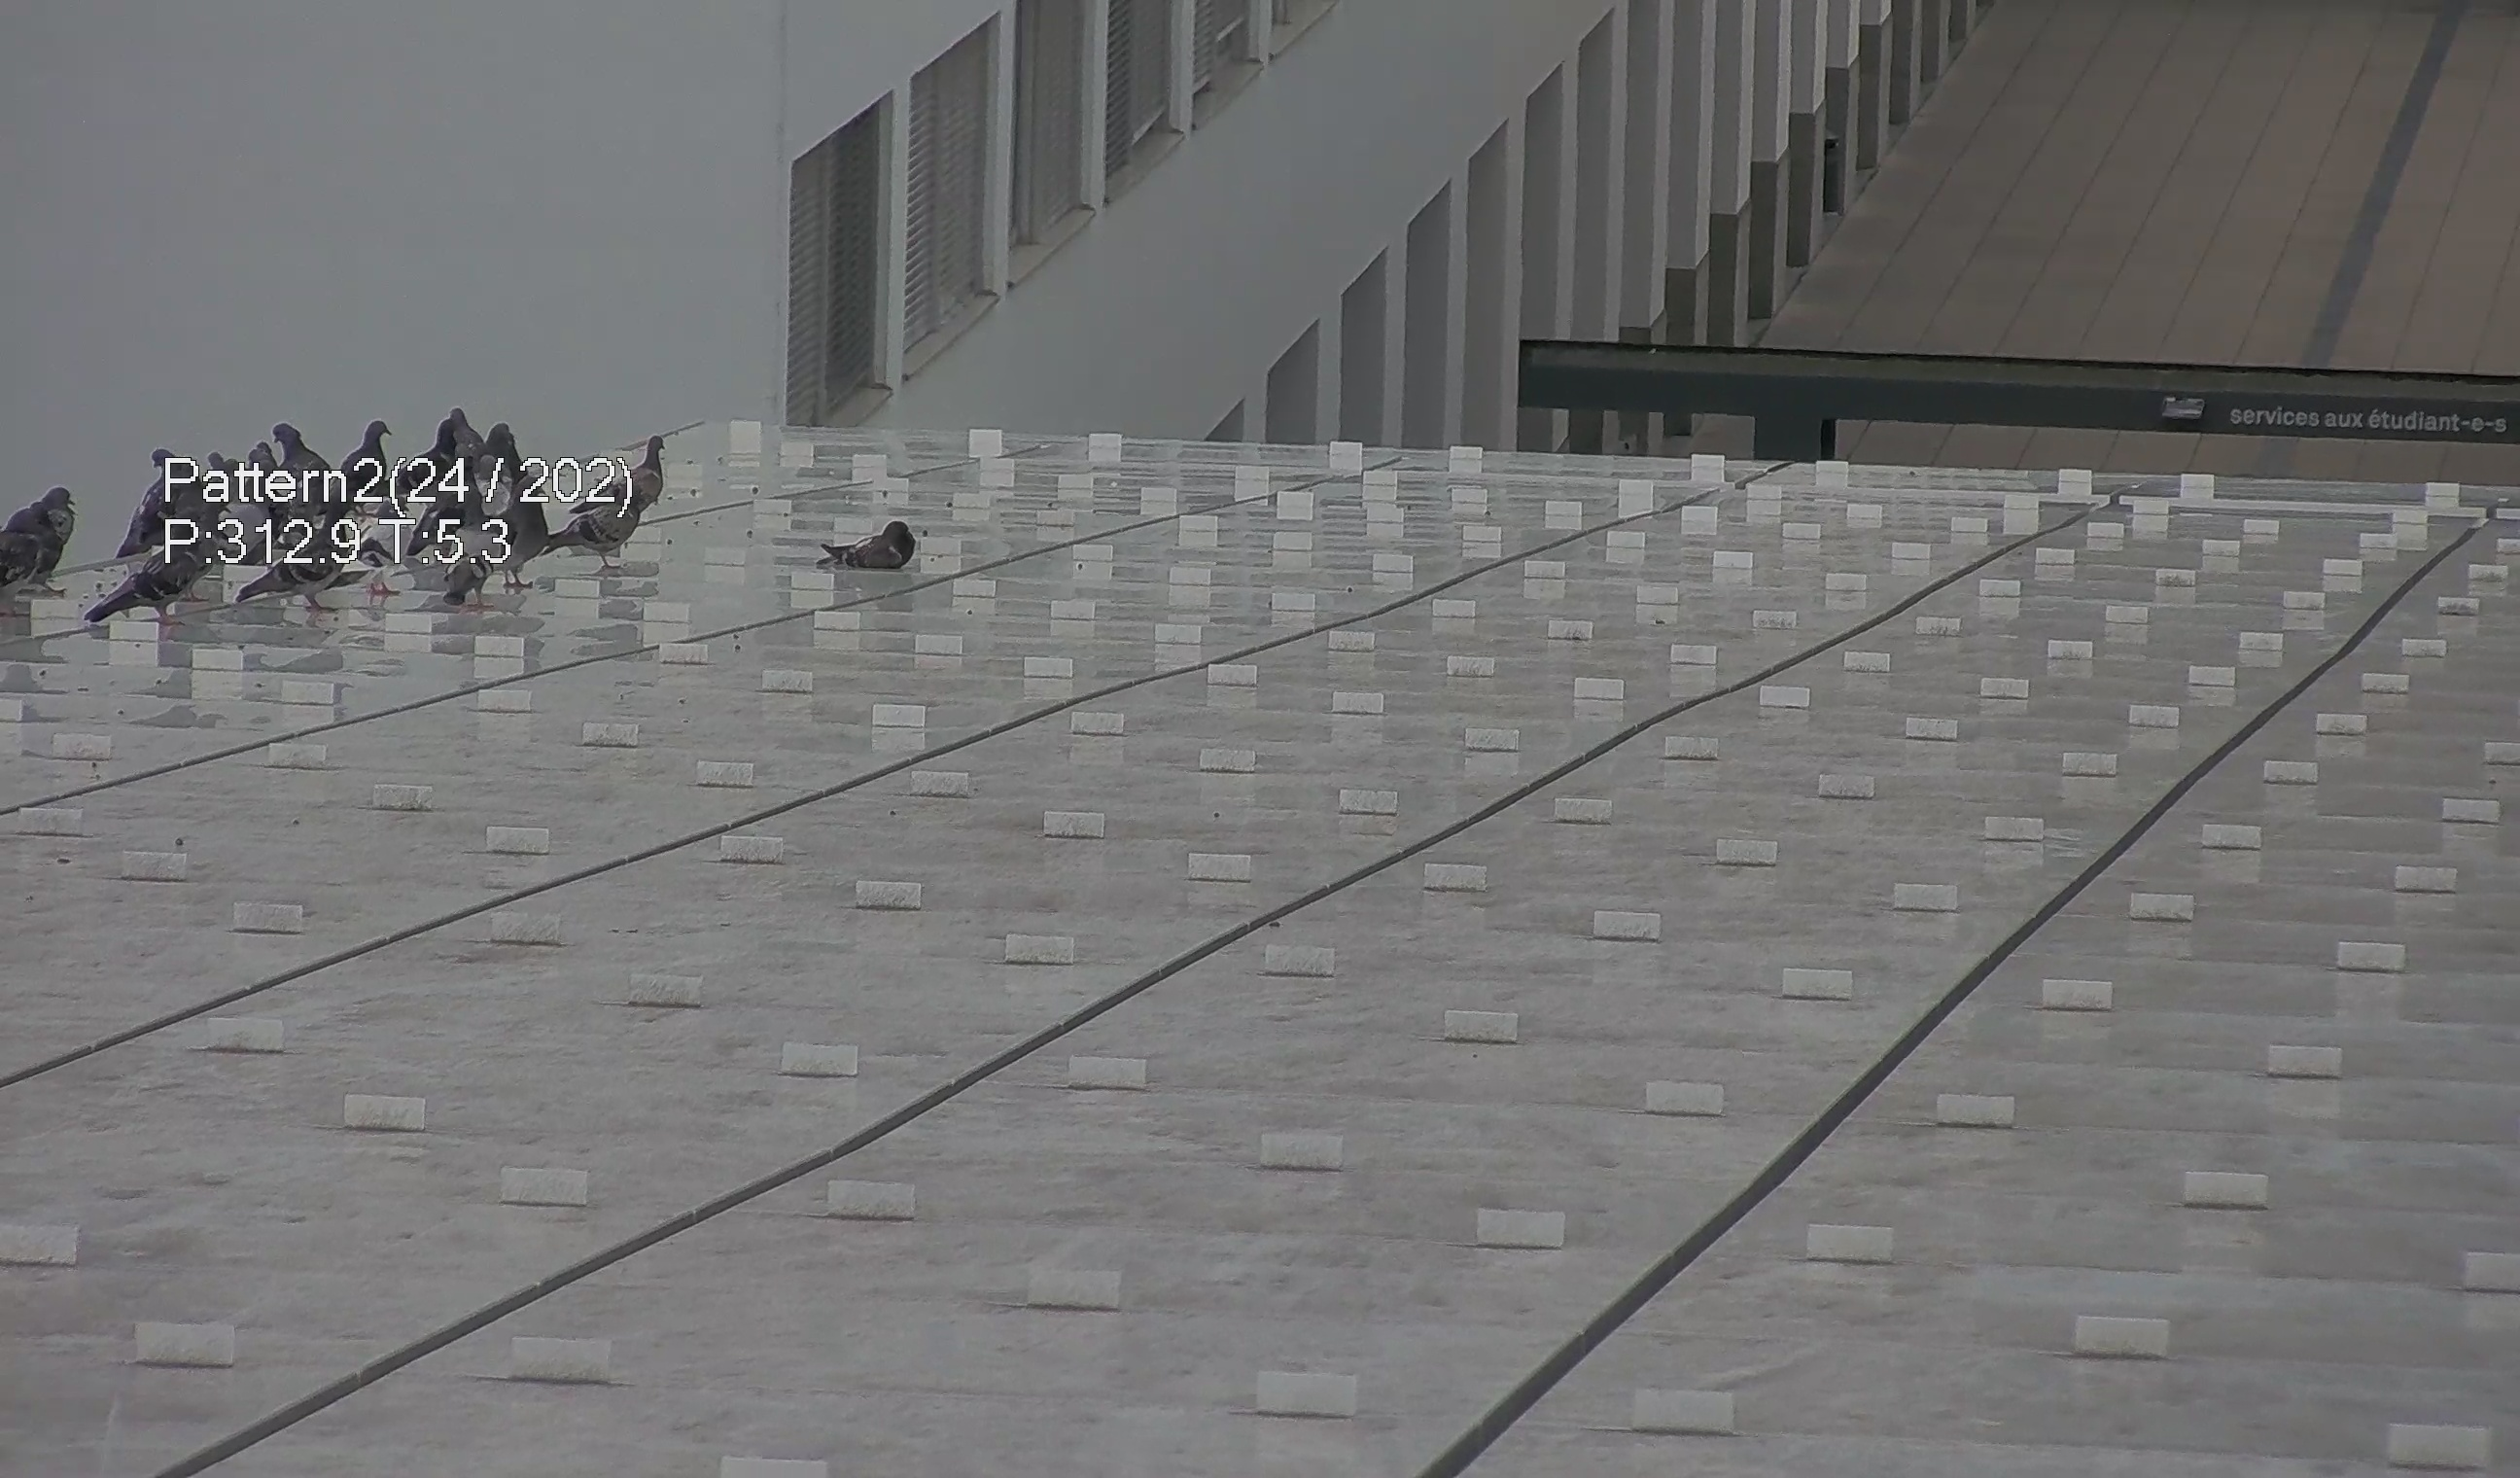Pigeon: (95, 519, 215, 623), (4, 473, 86, 588), (118, 442, 200, 549), (545, 489, 642, 574), (246, 531, 353, 607), (804, 512, 923, 579), (489, 477, 556, 575), (440, 519, 499, 612), (617, 429, 675, 514), (266, 415, 325, 484), (345, 419, 403, 475), (447, 405, 494, 457), (484, 419, 522, 463)
